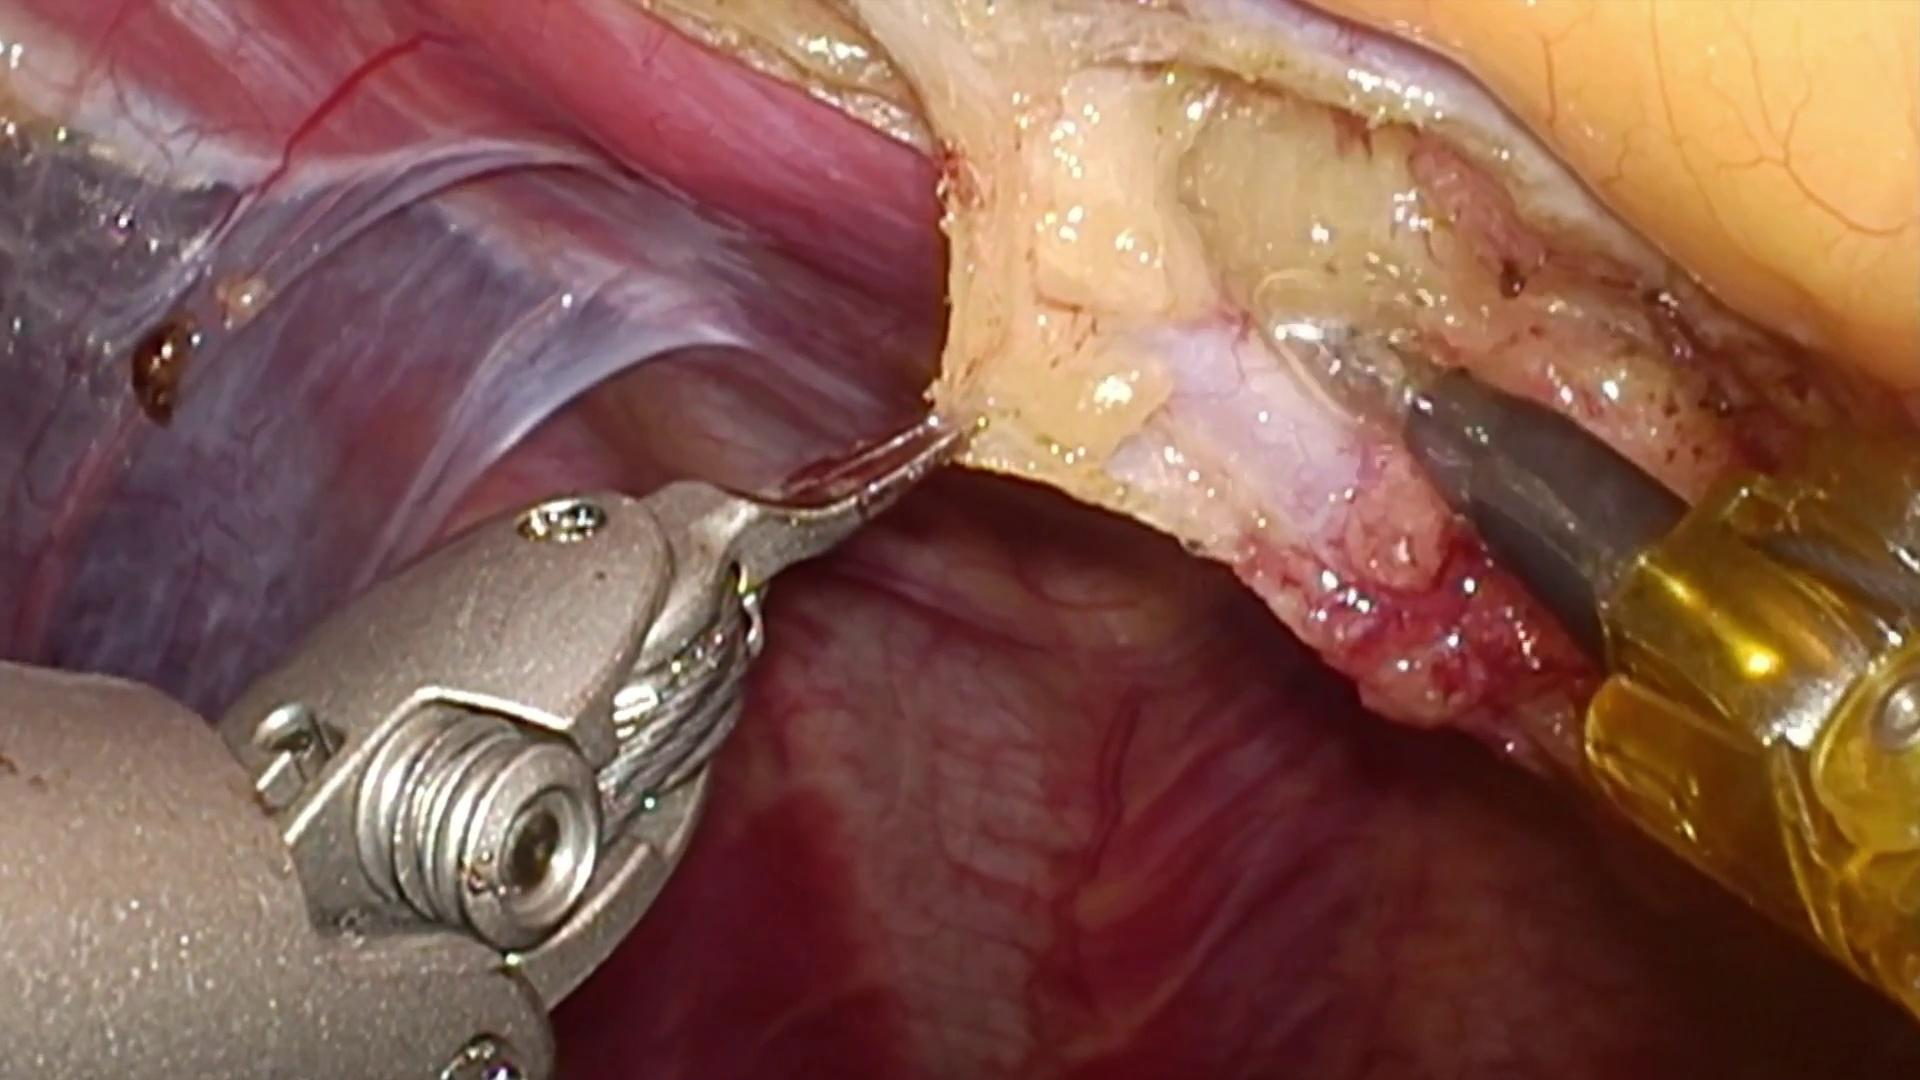Cautery_Spatula: (1296, 305, 1695, 676)
Debakey: (654, 402, 1007, 599)
